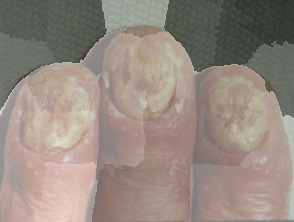Nail_psoriasis: (193, 60, 289, 177), (4, 62, 102, 176), (100, 24, 195, 135)
